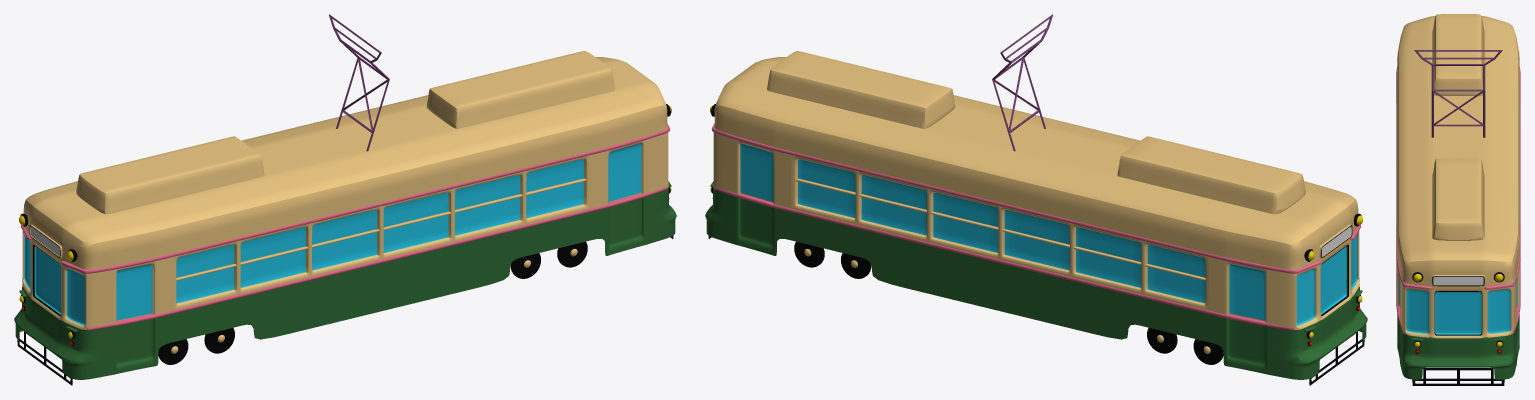
File: Tram.fbx
3 renders of one model, left to right at view 1: azimuth 30°, elevation 25°; view 2: azimuth 150°, elevation 25°; view 3: azimuth 270°, elevation 25°, orthographic. The views are drawn at different scales.
Parts seen in each view (by area): view 1: Tram_part1, Tram_part2; view 2: Tram_part1, Tram_part2; view 3: Tram_part1, Tram_part2, Tram_part3.
Boxes of the visible parts, x1=… form: Tram_part1: x1=14, y1=51, x2=676, y2=379; Tram_part2: x1=329, y1=14, x2=389, y2=151; Tram_part1: x1=705, y1=51, x2=1367, y2=379; Tram_part2: x1=992, y1=14, x2=1052, y2=151; Tram_part1: x1=1396, y1=14, x2=1520, y2=379; Tram_part2: x1=1414, y1=50, x2=1502, y2=137; Tram_part3: x1=1412, y1=368, x2=1504, y2=385.
Bounding box in the file's own units: 1783 × 722 × 372.
